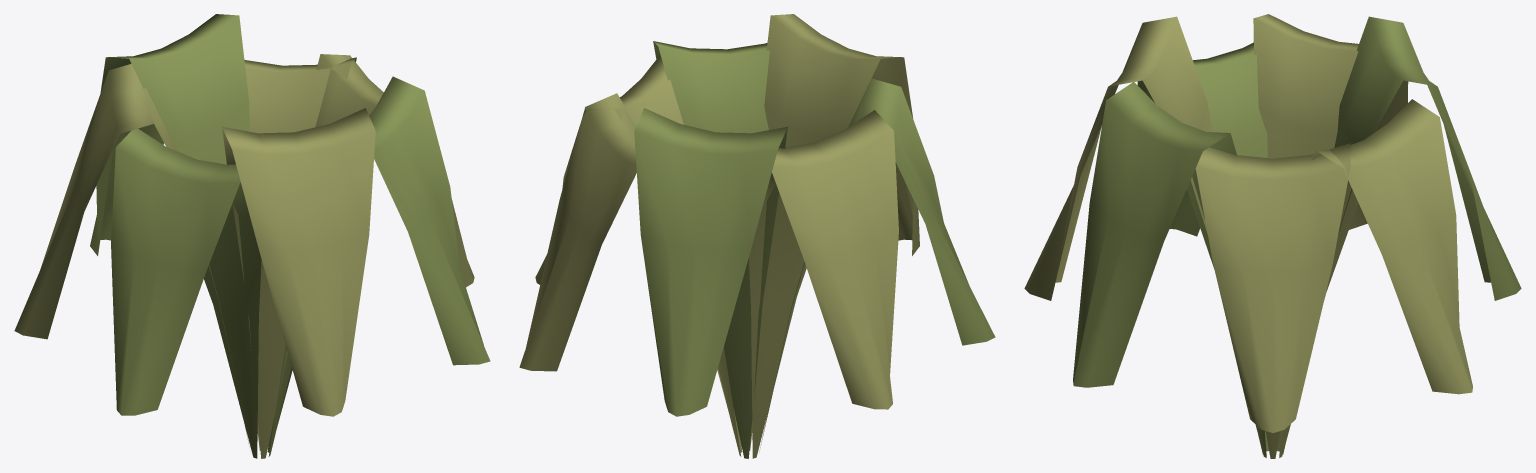
The model's file is lettuce-tuft.glb.
3 views of the same model, side by side, from view 1: azimuth 30°, elevation 25°; view 2: azimuth 150°, elevation 25°; view 3: azimuth 270°, elevation 25° (orthographic). The views are drawn at different scales.
Parts seen in each view (by area): view 1: lettuce-tuft; view 2: lettuce-tuft; view 3: lettuce-tuft.
Part boxes in pixels (left/top/right/bottom): lettuce-tuft: left=14, top=14, right=490, bottom=458; lettuce-tuft: left=519, top=14, right=995, bottom=458; lettuce-tuft: left=1024, top=14, right=1521, bottom=458.
Size of the model in its own units: 0.5 by 0.45 by 0.5129.
